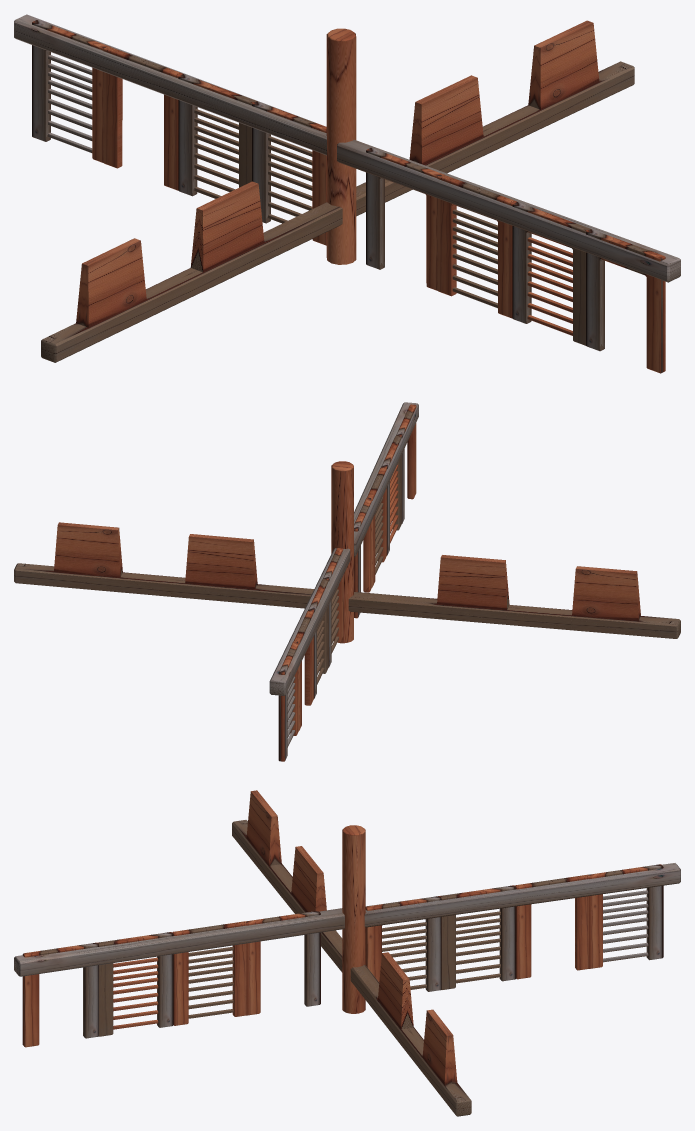
Rendered from wheel.fbx.
3 renders of one model, top to bottom at view 1: azimuth 30°, elevation 25°; view 2: azimuth 150°, elevation 25°; view 3: azimuth 270°, elevation 25°, orthographic. The views are drawn at different scales.
Visible parts, largest first — view 1: wheel; view 2: wheel; view 3: wheel.
Part boxes in pixels (box(x1,y1,x2,y2)): wheel: box(14, 14, 680, 373); wheel: box(14, 402, 680, 761); wheel: box(14, 790, 680, 1116).
Bounding box in the file's own units: 2880 × 851 × 2868.
